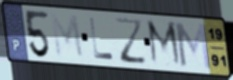5: (22, 8, 52, 59)
L: (88, 16, 116, 62)
M: (172, 20, 213, 71), (144, 17, 184, 69), (49, 12, 86, 61)
Z: (113, 16, 149, 67)
